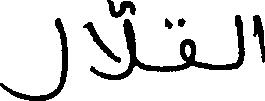X: (0, 13, 66, 100), (87, 0, 135, 84), (181, 13, 196, 74), (254, 10, 264, 67), (236, 10, 243, 73)
